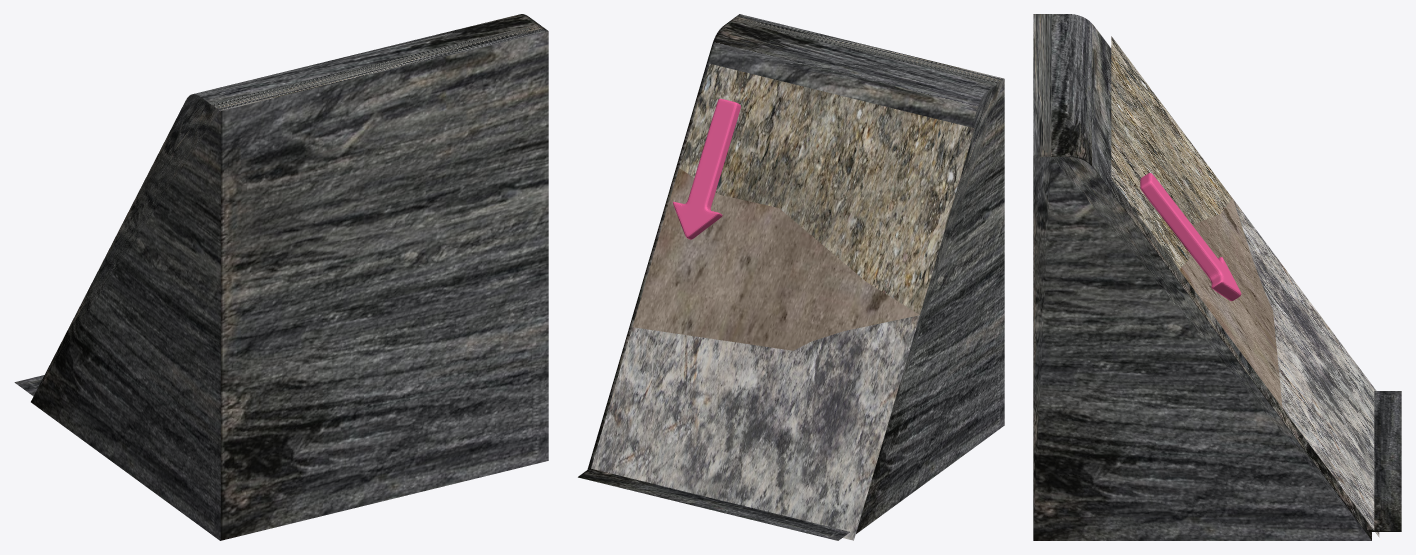
The model's file is 沉积物崩塌.gltf.
The picture shows the model from 3 angles, left to right: view 1: azimuth 30°, elevation 25°; view 2: azimuth 150°, elevation 25°; view 3: azimuth 270°, elevation 25°; orthographic projection. The views are drawn at different scales.
Visible parts, largest first — view 1: node_Box001_-16654; view 2: node_bengta2_-16652, node_Box001_-16654, node_arrow_1_-16656, node_Plane (1)_-16648; view 3: node_Box001_-16654, node_bengta2_-16652, node_Plane (1)_-16648, node_arrow_1_-16656.
Part boxes in pixels (x1,y1,x2,y2): node_Box001_-16654: (31,14,548,540); node_bengta2_-16652: (591,64,974,540); node_Box001_-16654: (587,14,1004,533); node_arrow_1_-16656: (673,98,740,239); node_Plane (1)_-16648: (578,467,849,540); node_Box001_-16654: (1033,14,1371,540); node_bengta2_-16652: (1111,36,1379,537); node_Plane (1)_-16648: (1367,391,1401,531); node_arrow_1_-16656: (1140,173,1241,301).
Size of what is drawn, in the model's own units: 1.04 by 1.27 by 1.1.
